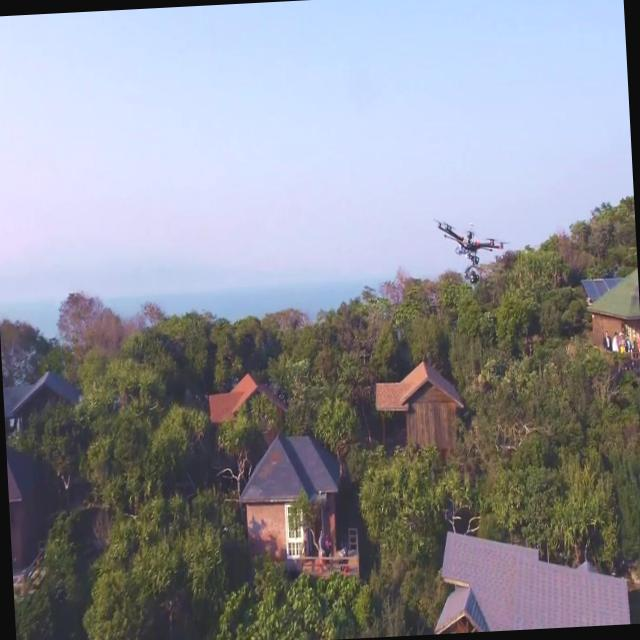drone: (434, 212, 512, 294)
